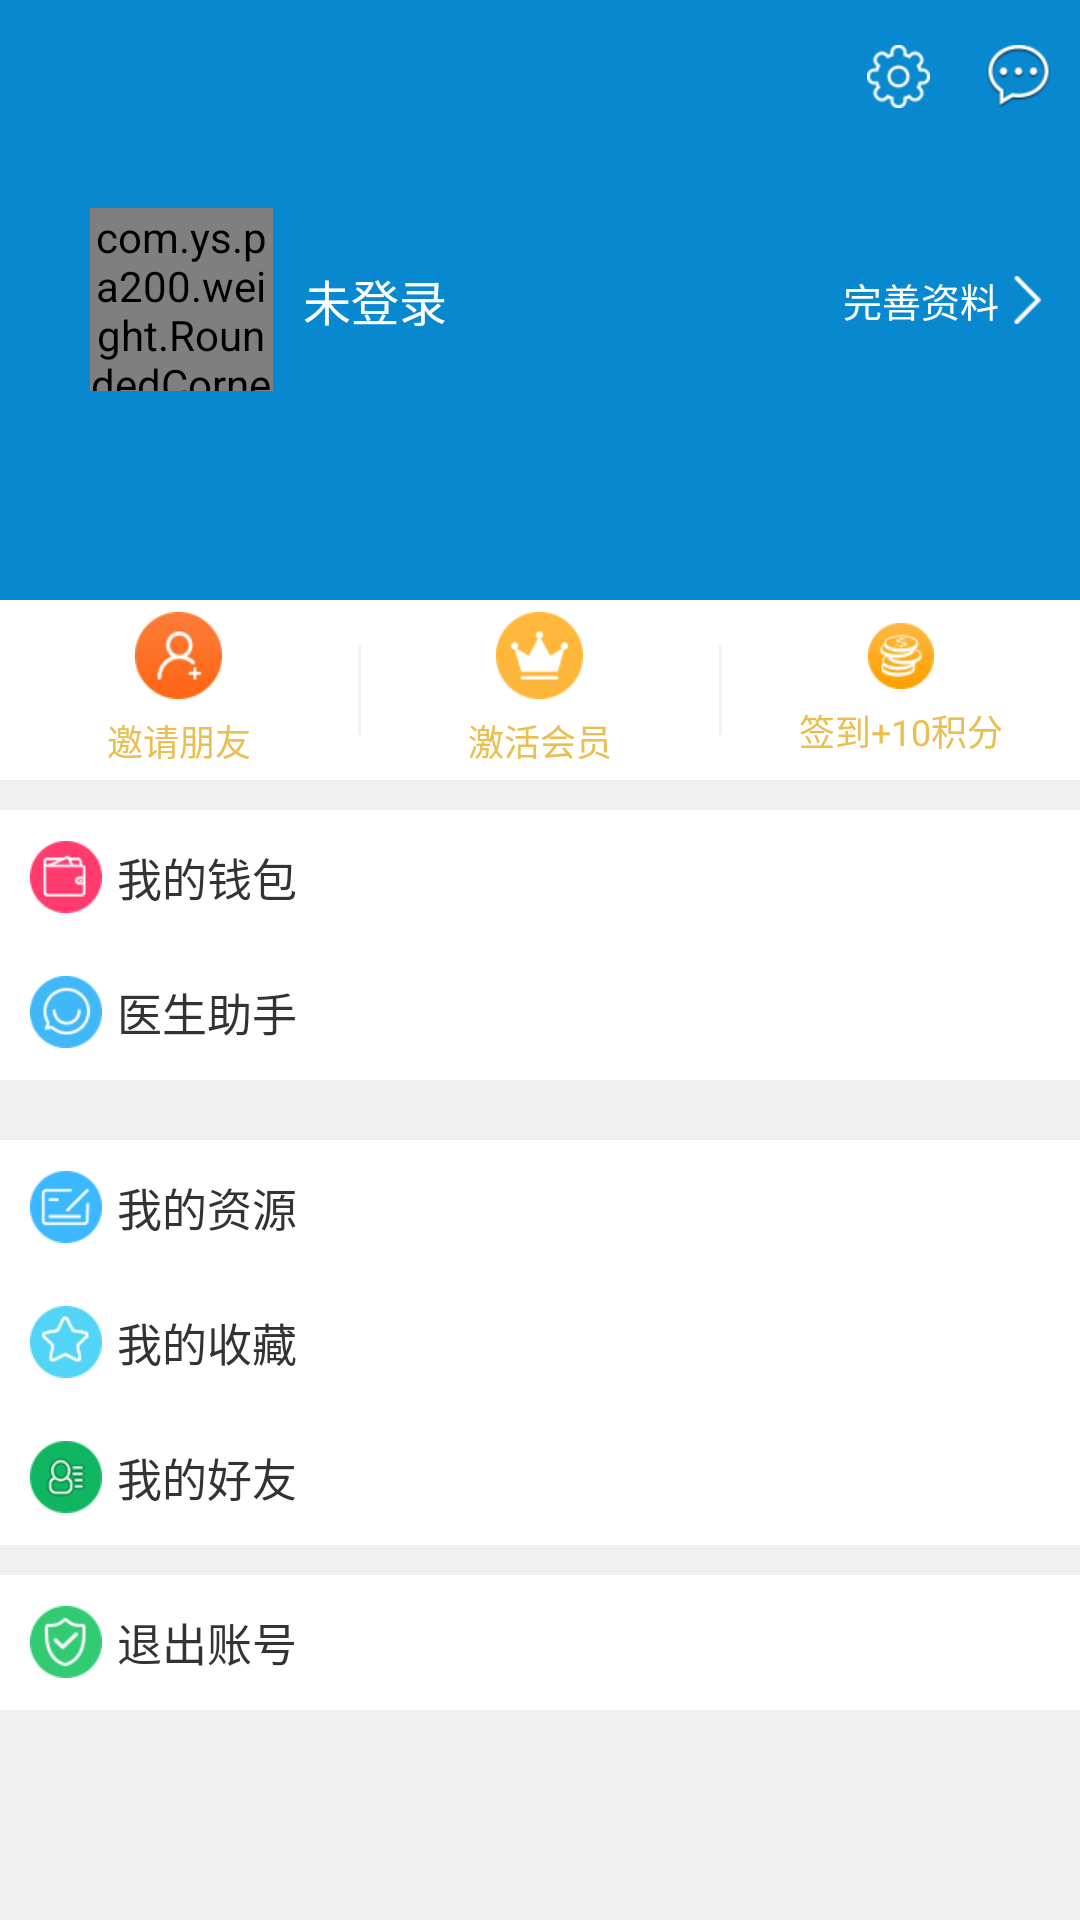

Screen size 1080px×1920px. Icon name, then its box in pixels as (x1, y1, x2, y2):
setting: (867, 45, 930, 108)
system messge: (987, 45, 1050, 107)
